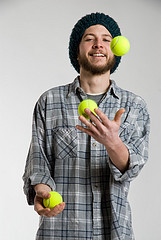tennis ball: (75, 97, 101, 121), (42, 190, 67, 212), (110, 34, 131, 57)
